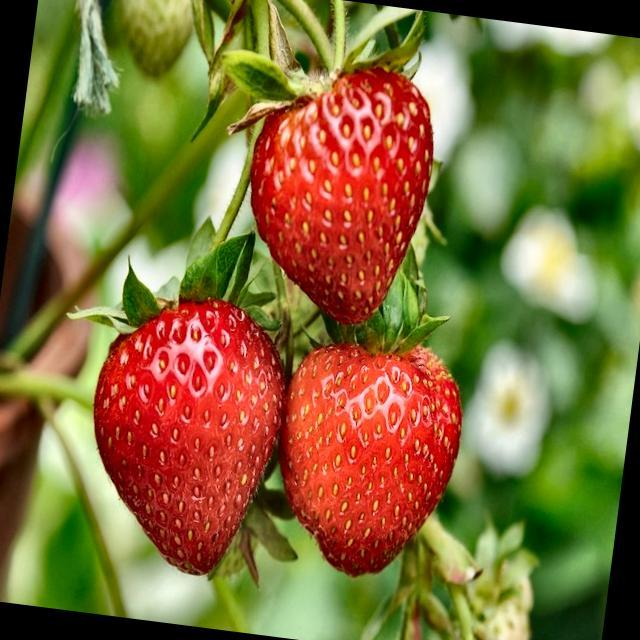strawberry: (94, 300, 284, 574), (251, 68, 432, 324), (280, 344, 462, 576)
